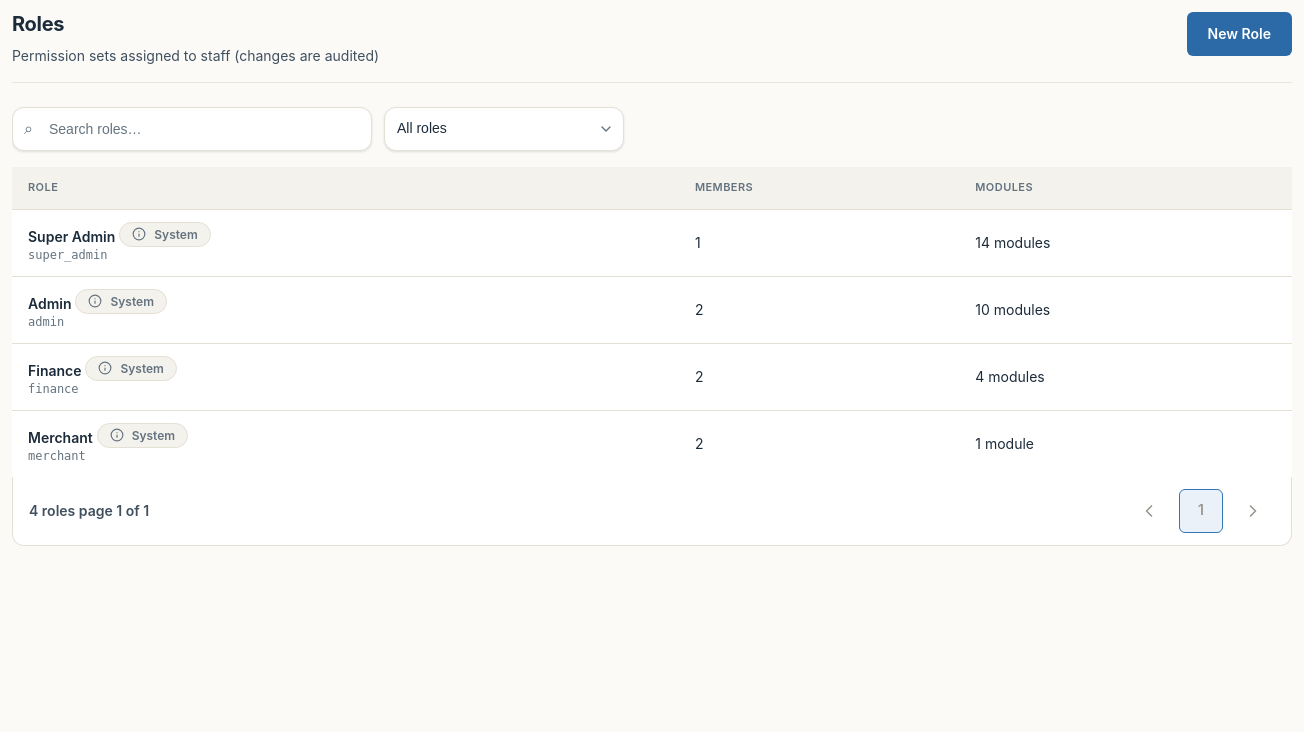
Scenario: RolesPage › filters custom roles (empty in seed)
Expected: the text "Super Admin" is shown, [28,227,115,244]
Select "Custom" in the dropdown named "Filter by type" at point(504, 129), box [384,107,624,151]
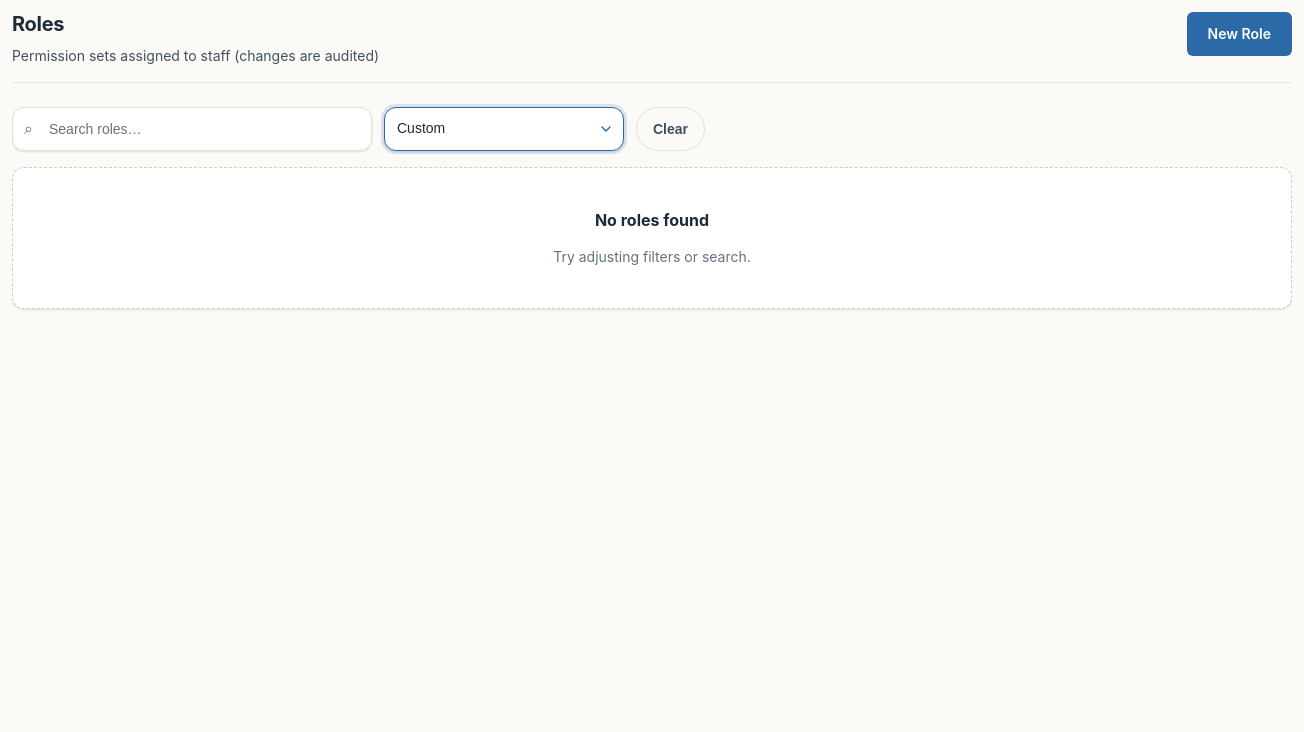
Expected: the heading "No roles found" is shown, [595,208,709,234]
